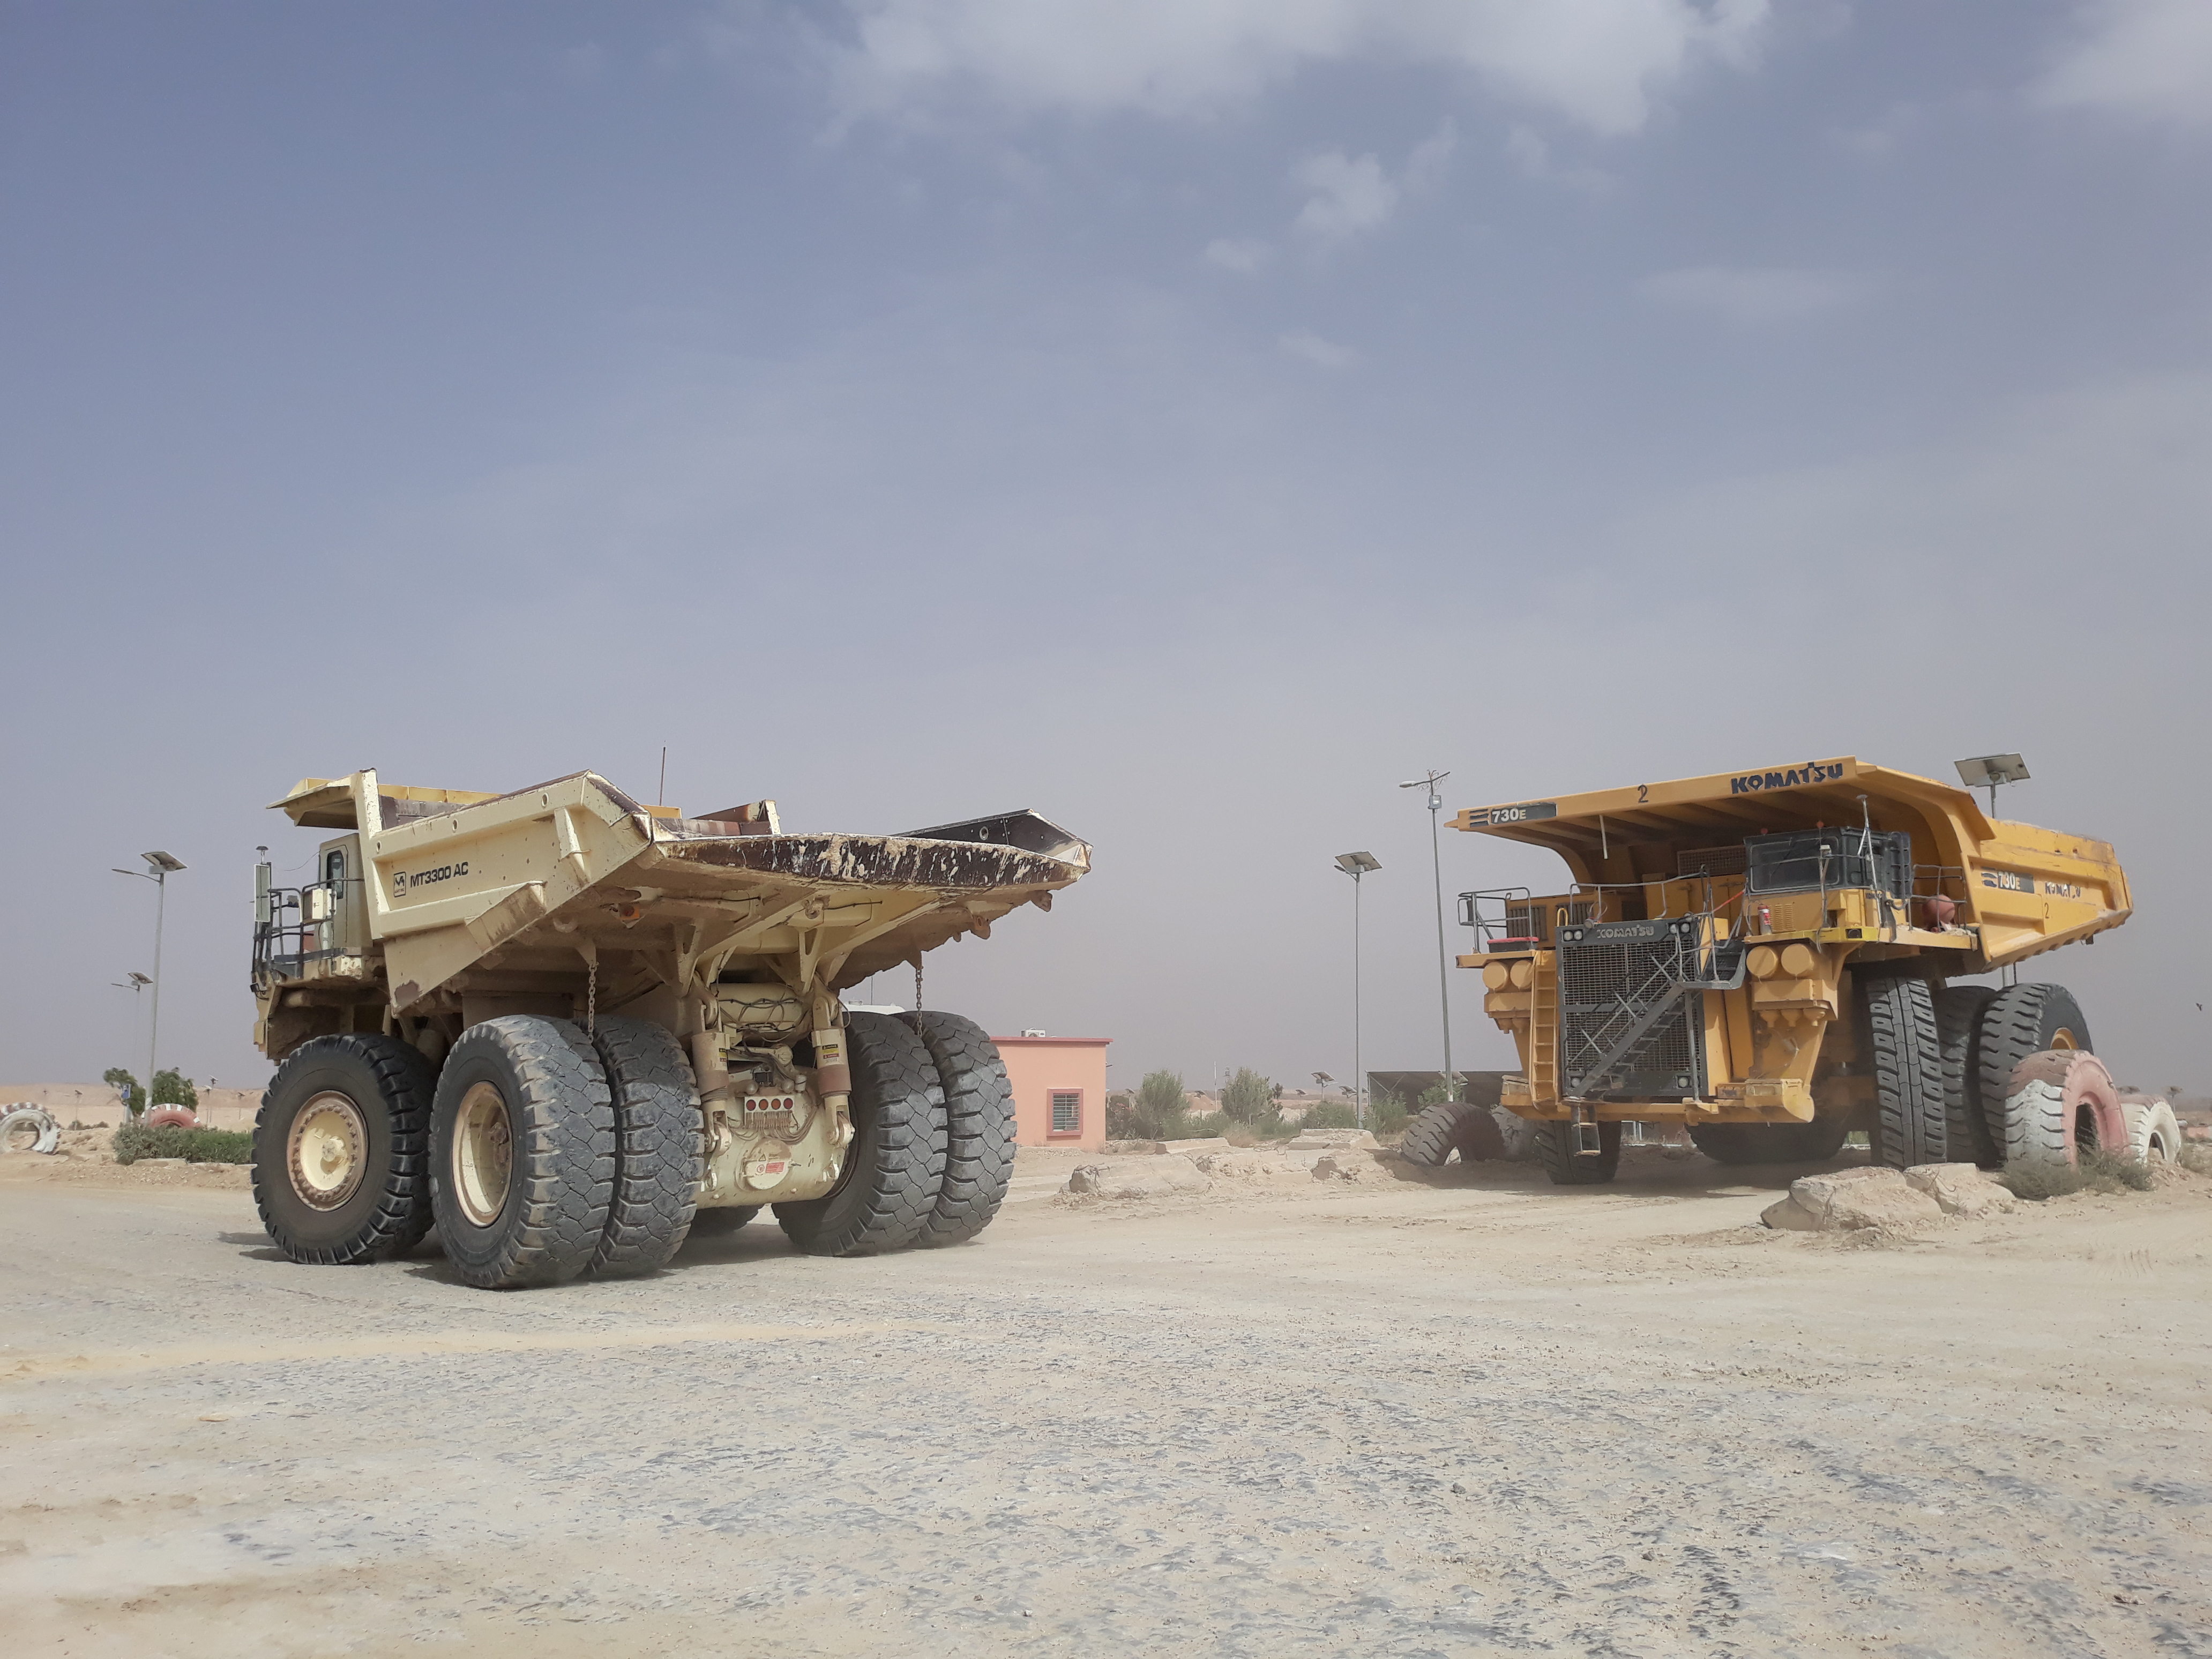camion: (211, 769, 1097, 1302), (1437, 725, 2148, 1230)
